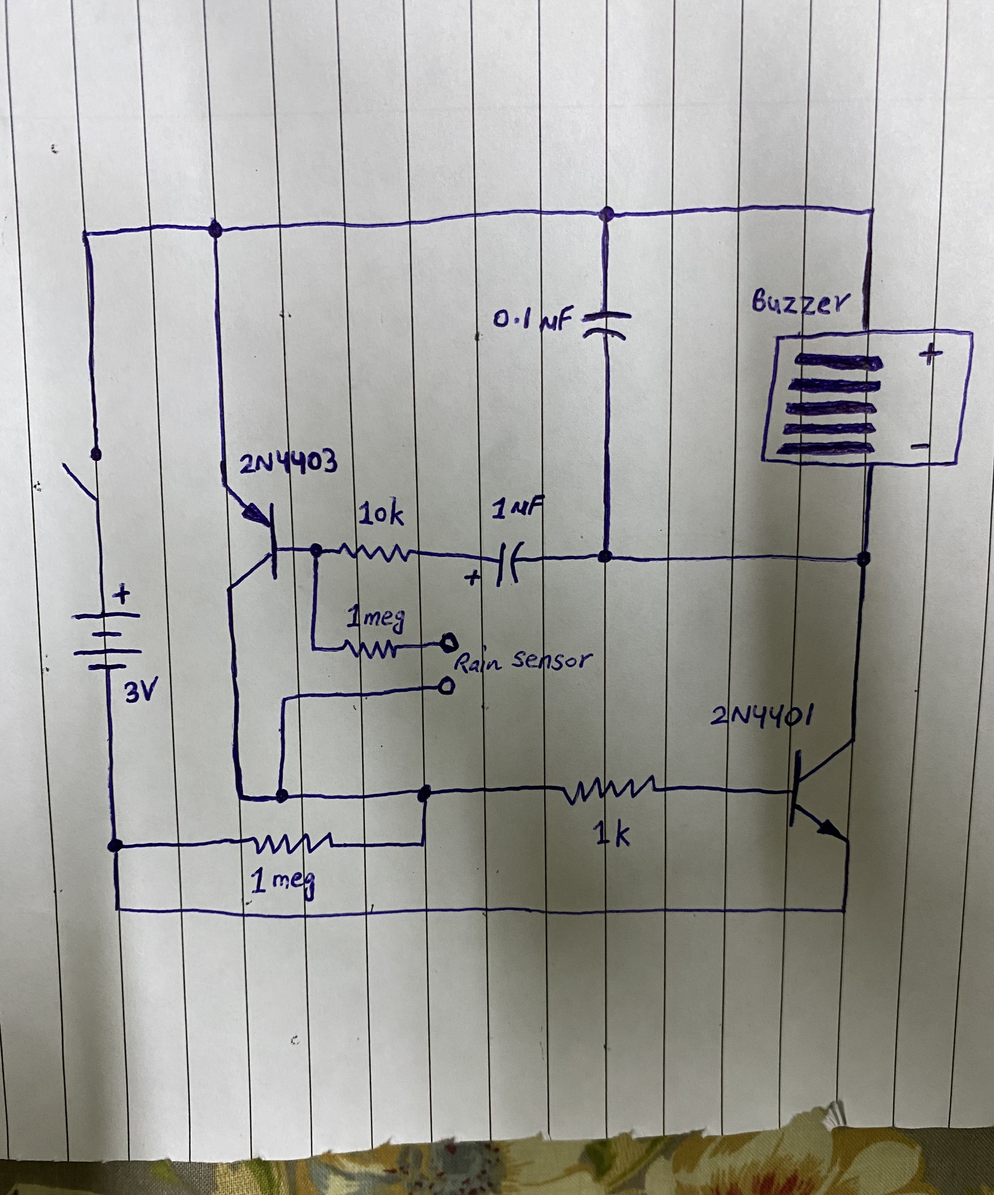capacitor.polarized: (463, 539, 526, 589)
capacitor.unpolarized: (580, 306, 635, 344)
junction: (202, 215, 227, 243), (594, 202, 620, 227), (852, 546, 875, 570), (75, 223, 97, 247), (413, 783, 434, 805), (272, 784, 292, 806), (105, 835, 126, 855), (595, 546, 615, 566), (307, 540, 325, 560), (232, 787, 250, 806), (413, 834, 431, 853), (863, 202, 880, 221), (305, 638, 322, 656), (276, 691, 292, 708), (110, 901, 126, 917), (837, 902, 852, 918)
resistor: (563, 773, 657, 806), (247, 830, 341, 858), (336, 538, 418, 564), (339, 635, 400, 663)
speaker: (759, 324, 977, 469)
switch: (60, 446, 103, 502)
terminal: (434, 673, 458, 698), (435, 631, 460, 654)
text: (453, 643, 596, 677), (234, 445, 342, 479), (706, 699, 816, 732), (748, 288, 852, 320), (248, 863, 321, 903), (490, 303, 578, 334), (356, 493, 407, 530), (490, 491, 546, 521), (347, 605, 406, 633), (592, 816, 634, 851), (121, 673, 161, 706)
transistor.bjt: (782, 731, 860, 852), (215, 481, 284, 593)
voltage.battery: (69, 573, 148, 679)
